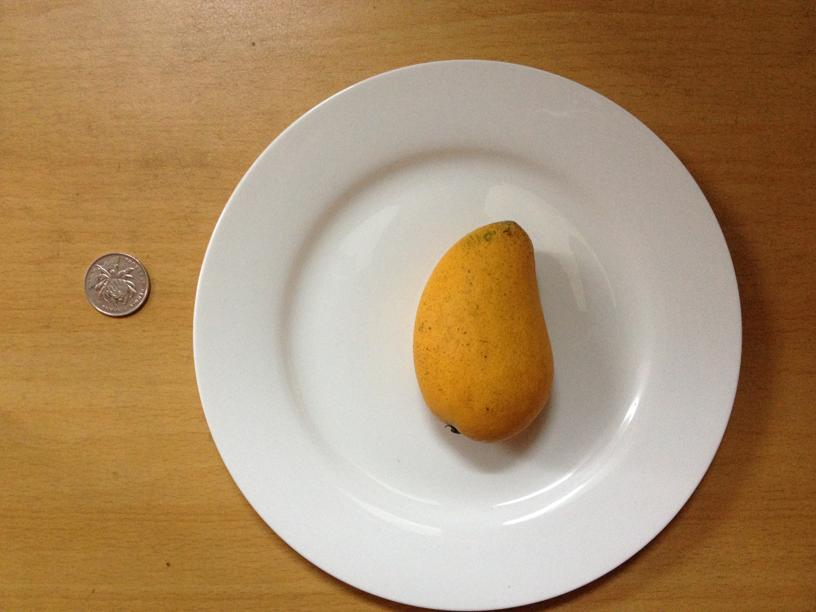coin: (80, 251, 151, 318)
mango: (409, 220, 555, 440)
